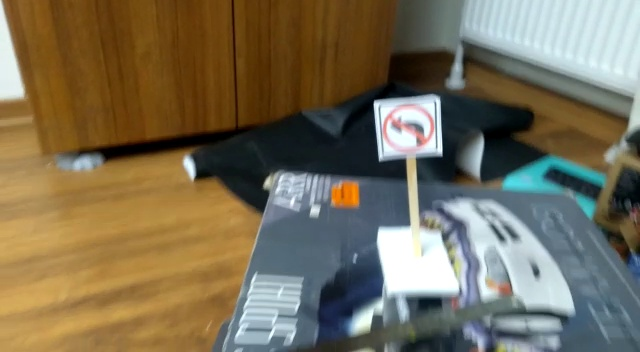sola_donulmez: (383, 98, 436, 156)
